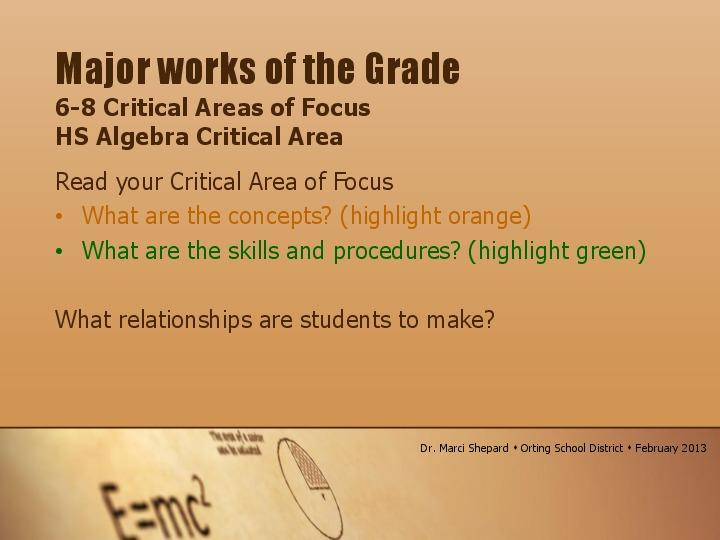paragraph: (50, 164, 667, 351)
title: (43, 32, 482, 158)
